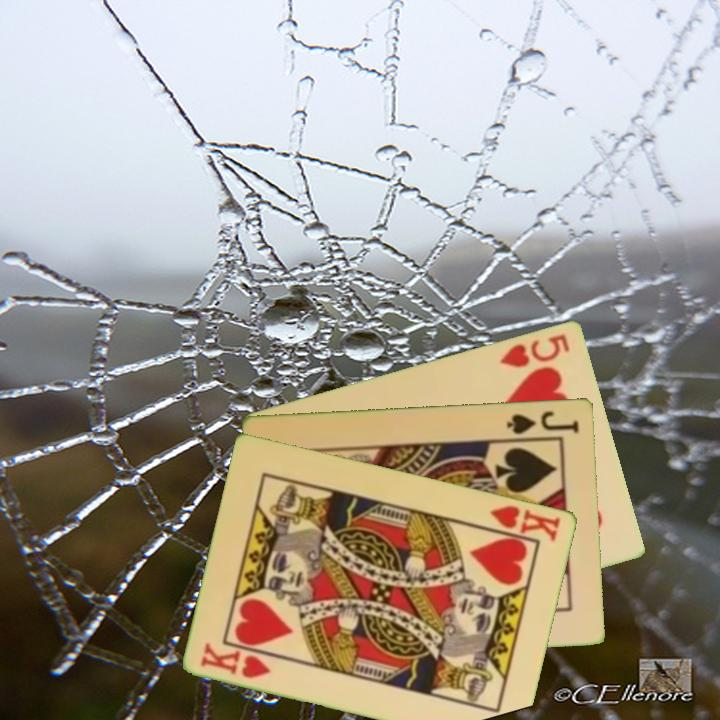5h: (496, 330, 573, 370)
Js: (504, 407, 582, 437)
Kh: (479, 501, 564, 544), (197, 638, 274, 681)
